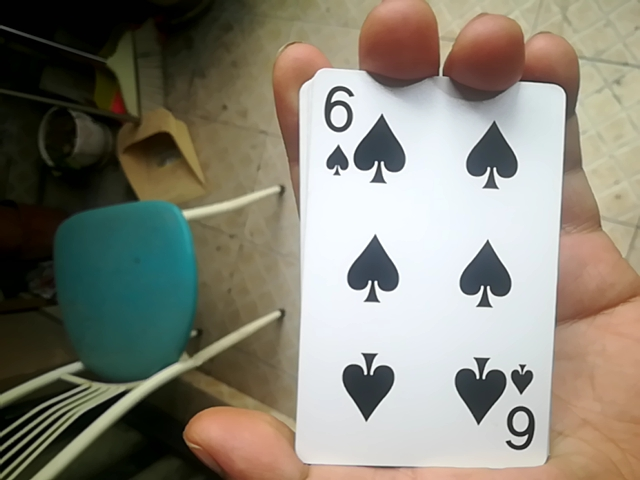ht 6: (299, 70, 559, 468)
